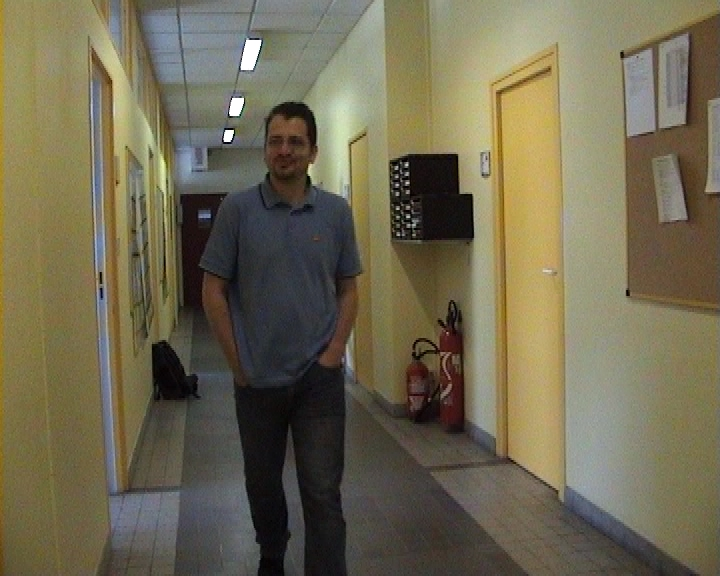leave bag unattended: (140, 328, 222, 417)
